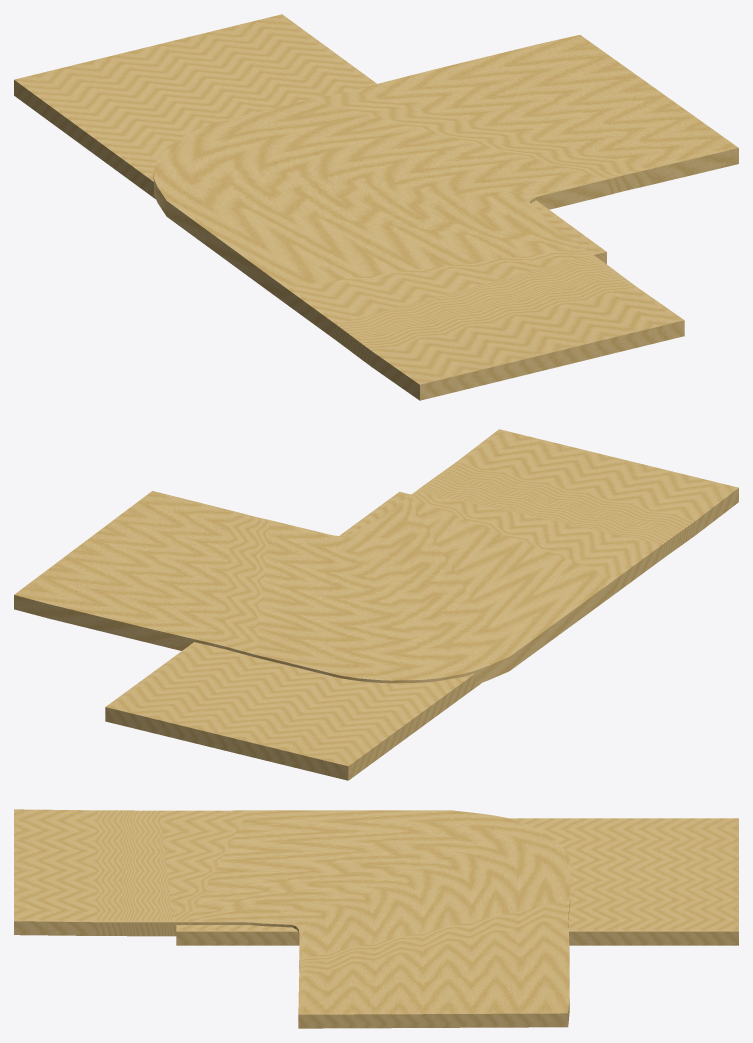
The model's file is Turning.fbx.
3 views of the same model, one above another, from view 1: azimuth 30°, elevation 25°; view 2: azimuth 150°, elevation 25°; view 3: azimuth 270°, elevation 25° (orthographic). The views are drawn at different scales.
Parts seen in each view (by area): view 1: CurveRoad, road; view 2: CurveRoad, road; view 3: CurveRoad, road.
Boxes of the visible parts, x1,y1,x2,y2 form: CurveRoad: [153, 35, 738, 400]; road: [14, 14, 606, 264]; CurveRoad: [14, 429, 738, 684]; road: [105, 491, 481, 780]; CurveRoad: [14, 809, 570, 1028]; road: [176, 818, 738, 945].
Bounding box in the file's own units: 751 × 30.01 × 1125.
2 materials, 2 textured.
